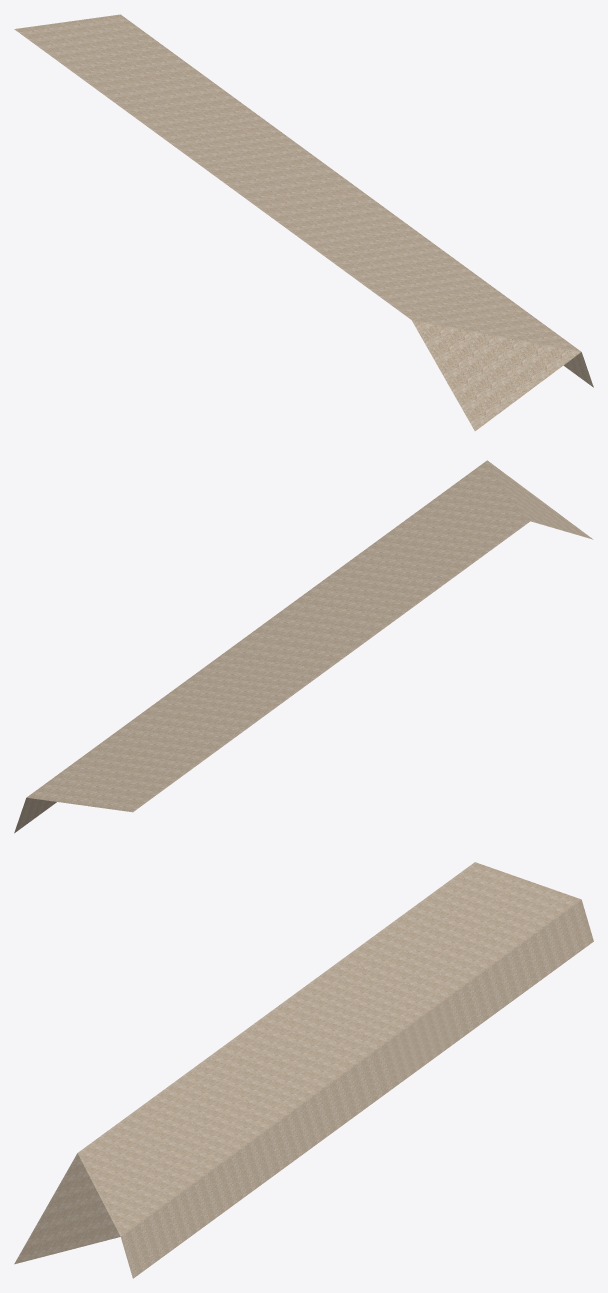
The model's file is sbedsfn1_sfn.obj.
3 views of the same model, one above another, from view 1: azimuth 30°, elevation 25°; view 2: azimuth 150°, elevation 25°; view 3: azimuth 330°, elevation 25° (orthographic).
Parts seen in each view (by area): view 1: sbedsfn1_SFN; view 2: sbedsfn1_SFN; view 3: sbedsfn1_SFN.
Boxes of the visible parts, box(x1,y1,x2,y2) form: sbedsfn1_SFN: box(14, 14, 593, 430); sbedsfn1_SFN: box(14, 460, 593, 833); sbedsfn1_SFN: box(14, 862, 593, 1278).
Bounding box in the file's own units: 60.72 × 31.68 × 407.
1 material, 1 textured.
